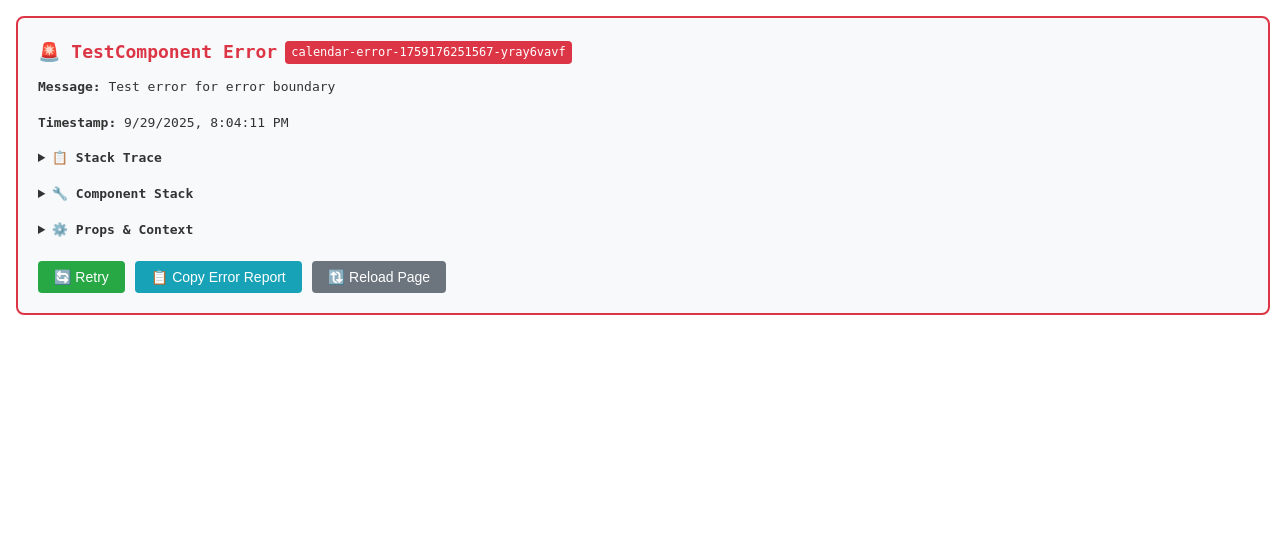
Test: CalendarErrorBoundary › Error Details sections › should include props and context information in details
Click the heading "⚙️ Props & Context" at (123,230), box [52,222,193,237]
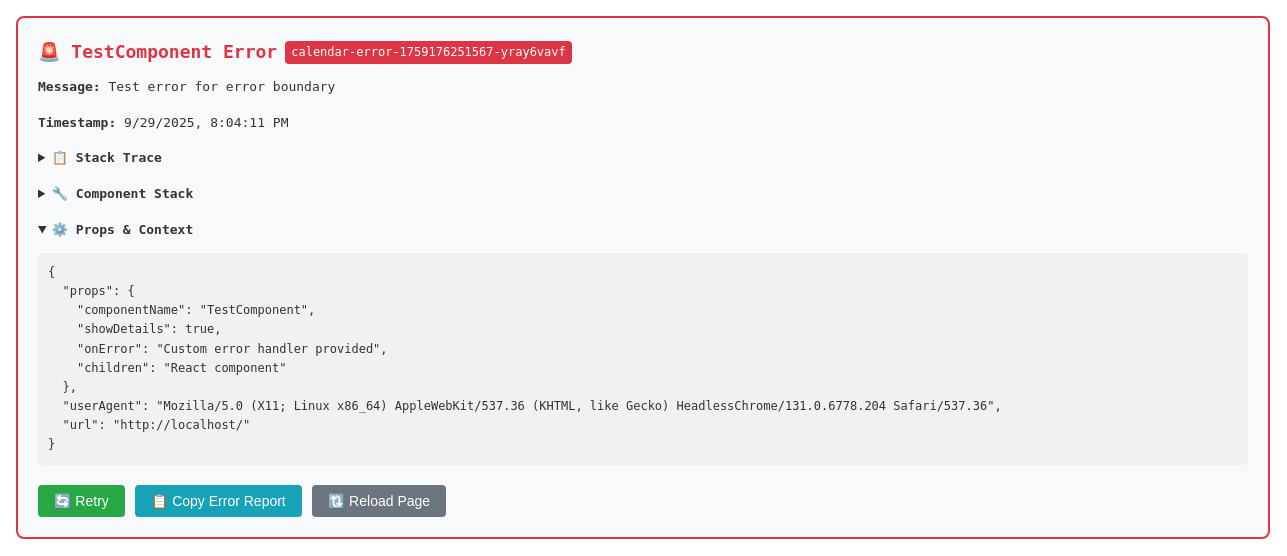
Expected: the text "⚙️ Props & Context" shows "TestComponent", [48,265,1002,452]
Expected: the text "⚙️ Props & Context" shows "Custom error handler provided", [48,265,1002,452]
Expected: the text "⚙️ Props & Context" shows "userAgent", [48,265,1002,452]
